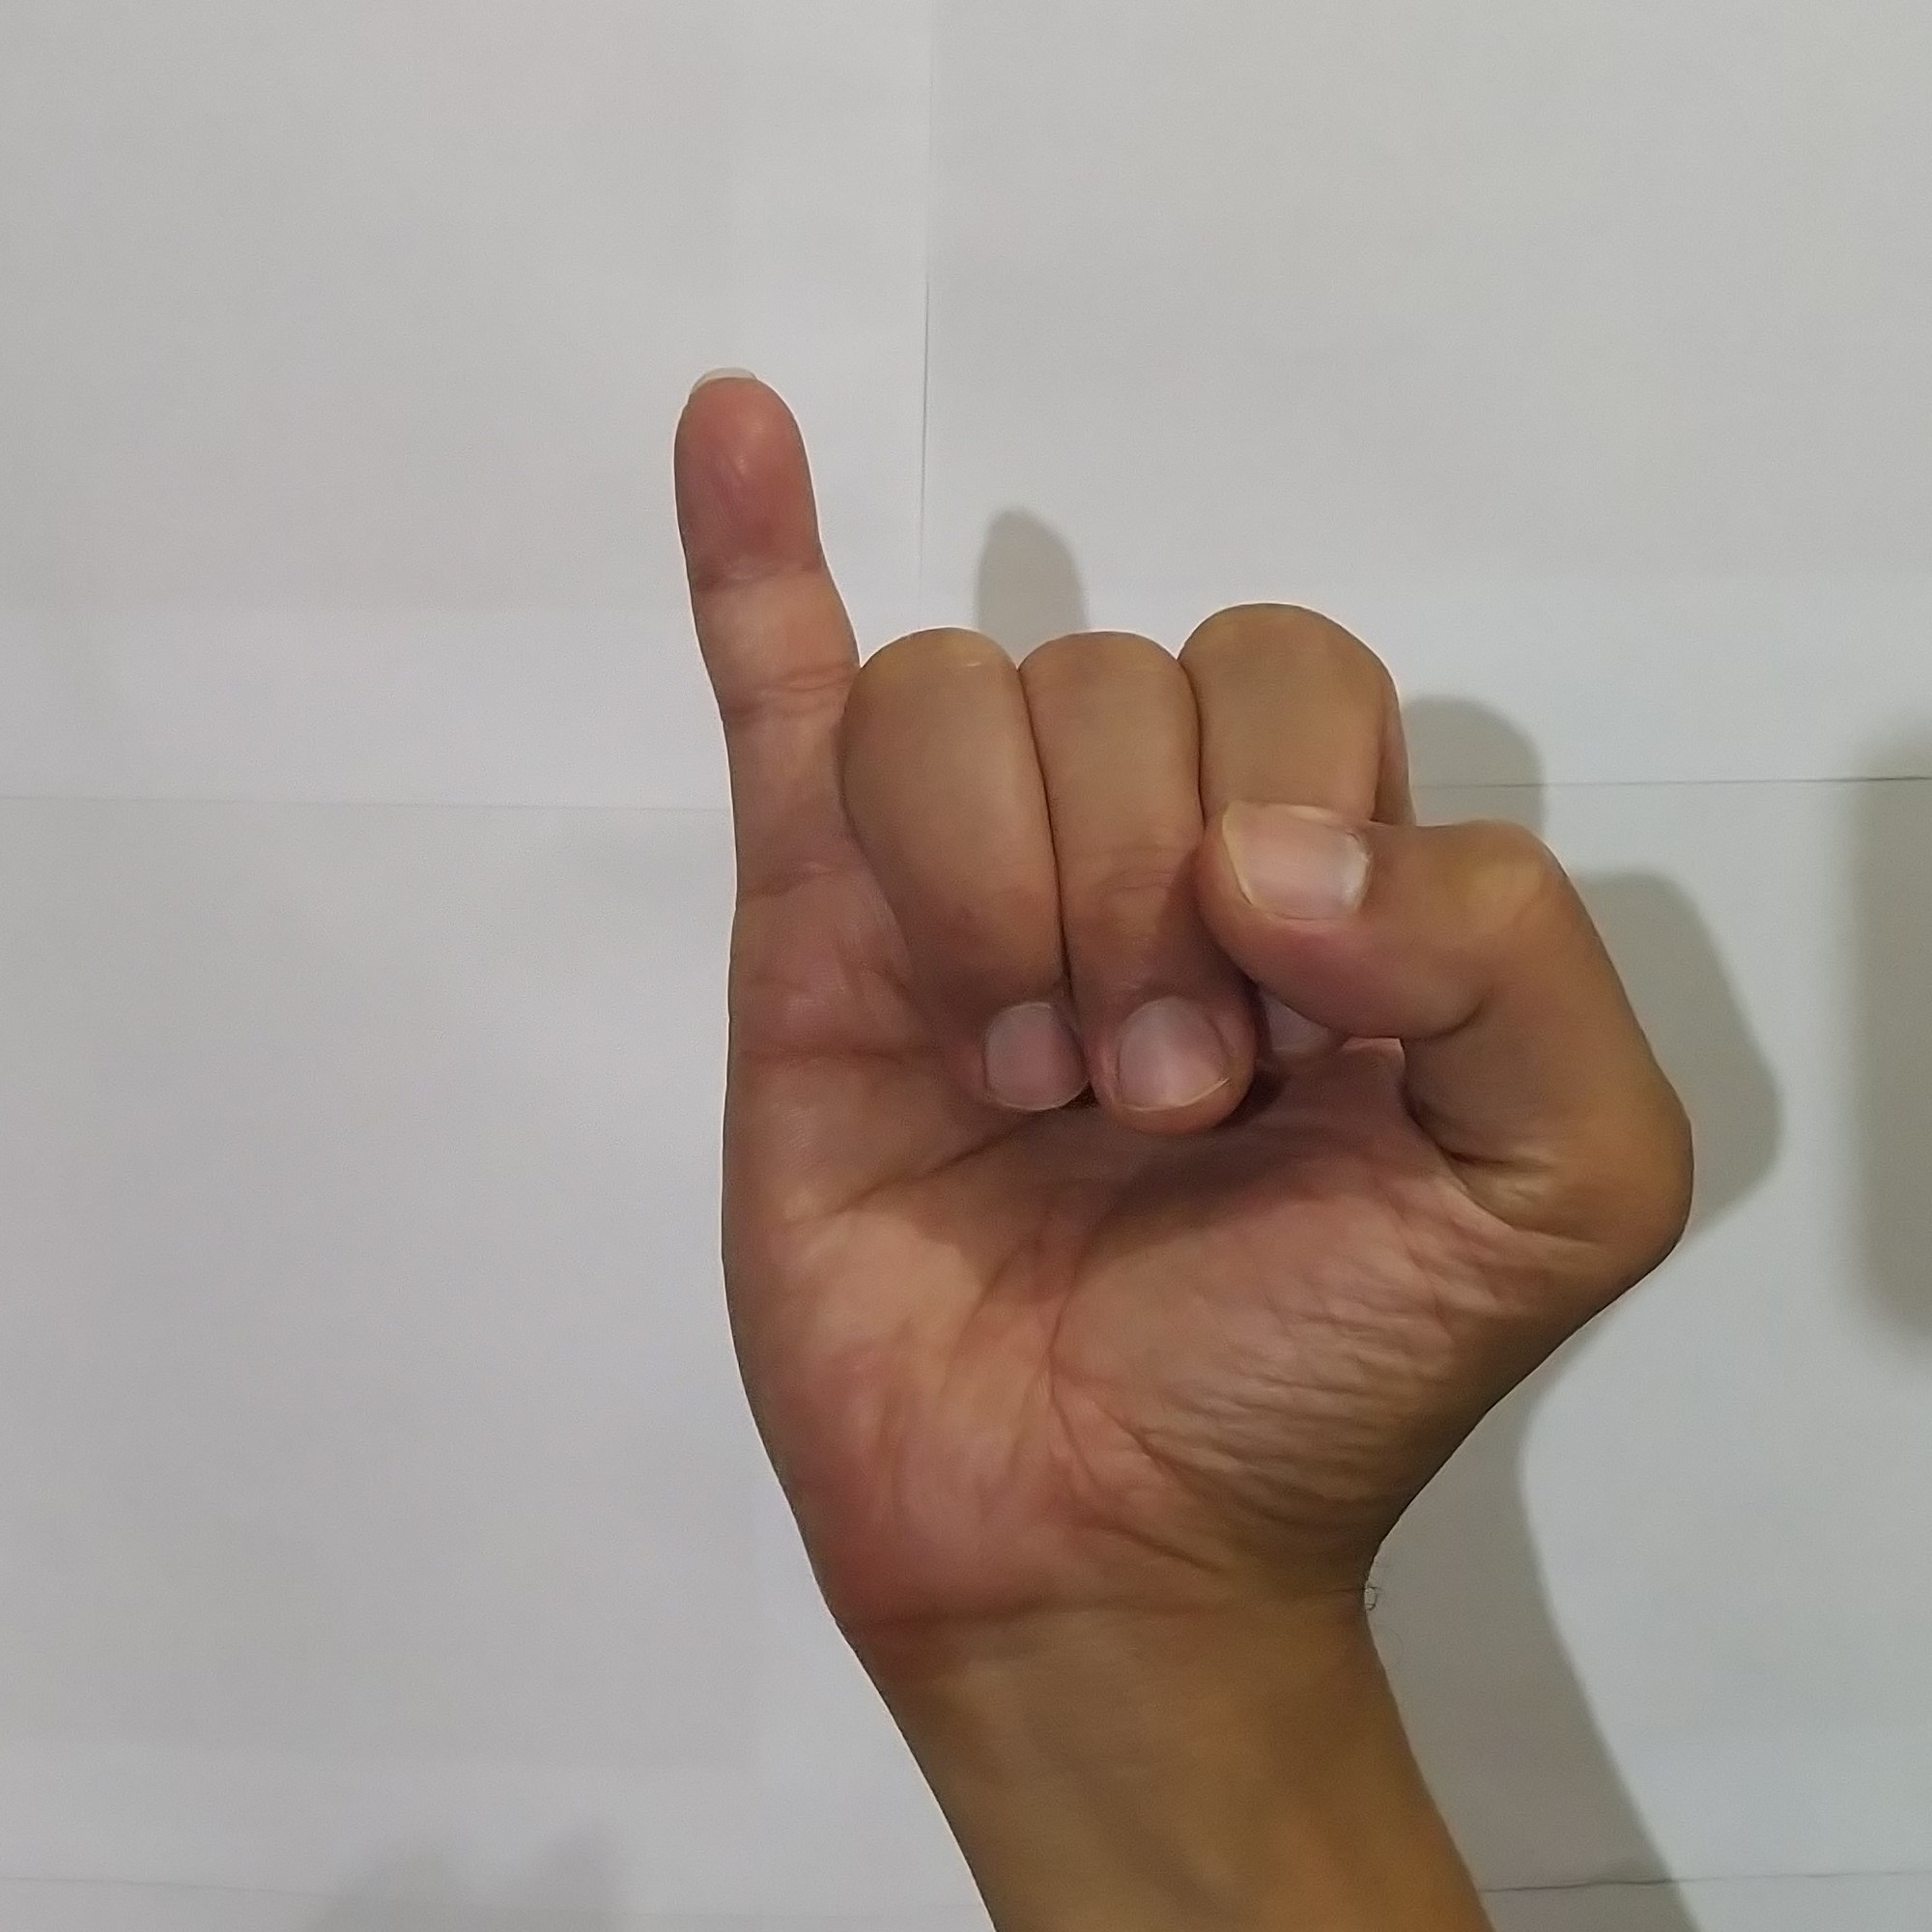I: (642, 343, 1716, 1578)
